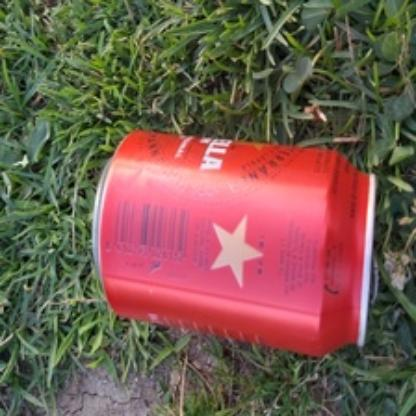Can: (92, 130, 378, 356)
